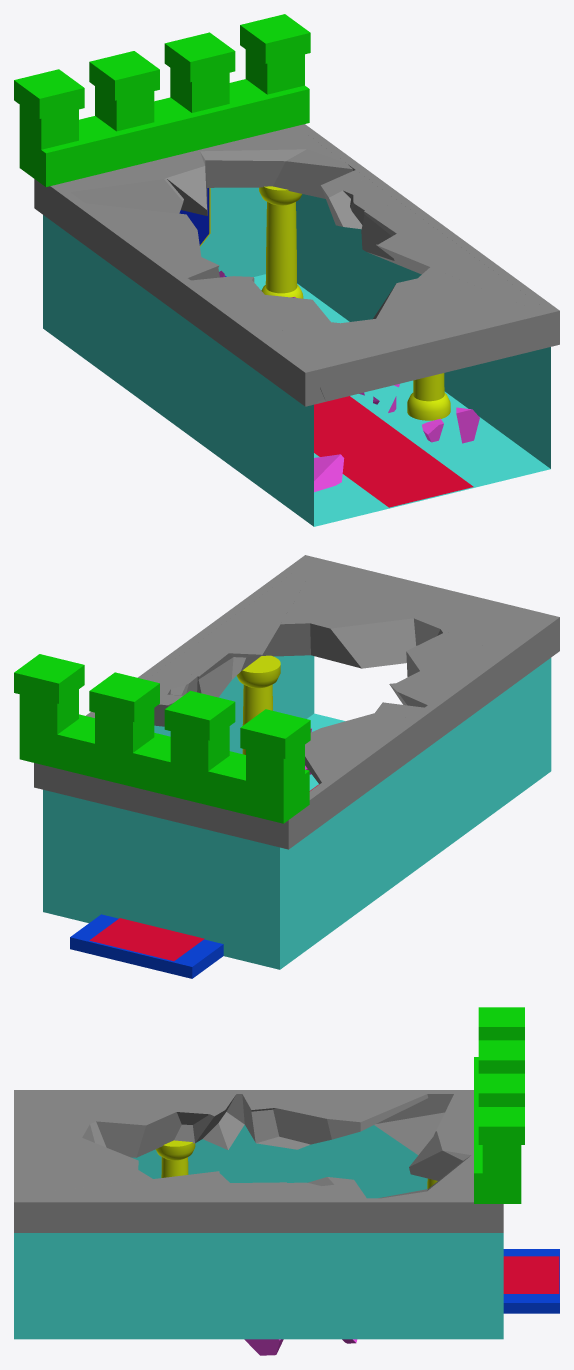
Rendered from cast_last.fbx.
3 renders of one model, top to bottom at view 1: azimuth 30°, elevation 25°; view 2: azimuth 150°, elevation 25°; view 3: azimuth 270°, elevation 25°, orthographic. The views are drawn at different scales.
Visible parts, largest first — view 1: Garek, Box, Ceilin, redCarp, Hshira, 立方体.002_cell.005_cell.004; view 2: Box, Garek, Ceilin, ouza, redCarp, Hshira; view 3: Box, Garek, Ceilin, redCarp, ouza, Hshira, 立方体.002_cell.005_cell.004.
Part boxes in pixels (x1,y1,x2,y2): Garek: (34,124,559,406); Box: (43,187,550,526); Ceilin: (14,14,310,186); redCarp: (314,396,473,507); Hshira: (259,186,450,420); 立方体.002_cell.005_cell.004: (219,270,479,492); Box: (43,655,551,969); Garek: (34,555,559,849); Ceilin: (14,654,310,823); ouza: (70,914,223,978); redCarp: (89,784,318,961); Hshira: (236,655,280,754); Box: (14,1125,503,1339); Garek: (14,1090,503,1232); Ceilin: (474,1007,524,1203); redCarp: (503,1256,559,1293); ouza: (503,1249,559,1313); Hshira: (156,1140,437,1188); 立方体.002_cell.005_cell.004: (244,1339,357,1355).
Bounding box in the file's own units: 4757 × 4733 × 9190.
